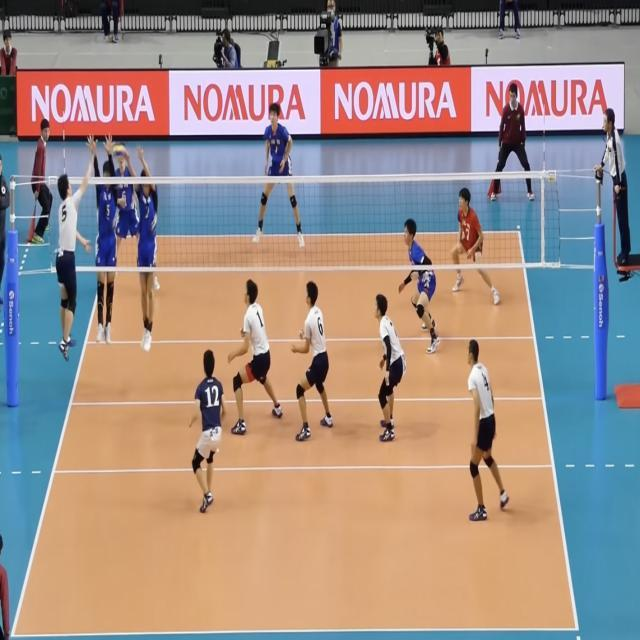spike: (52, 143, 100, 364)
